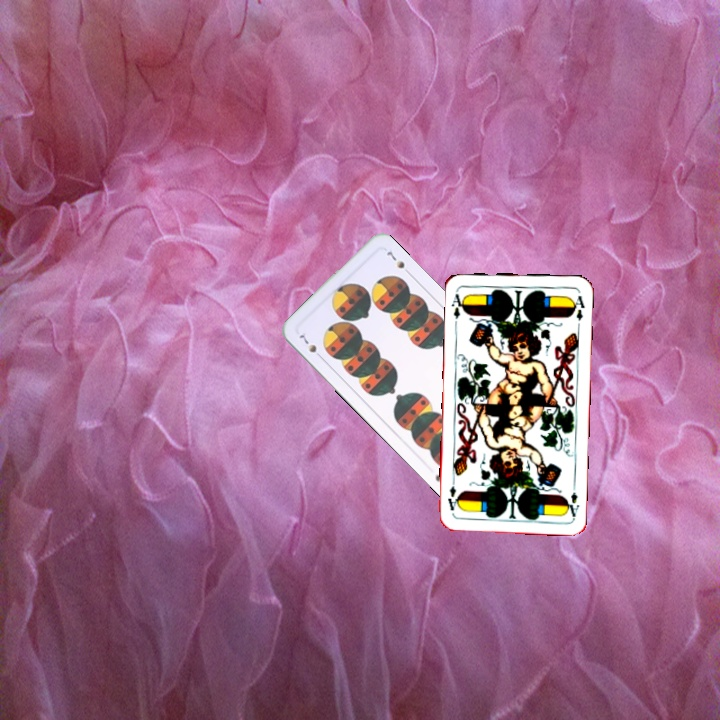EA: (562, 479, 582, 519), (448, 290, 468, 327)
S7: (295, 331, 326, 362)
